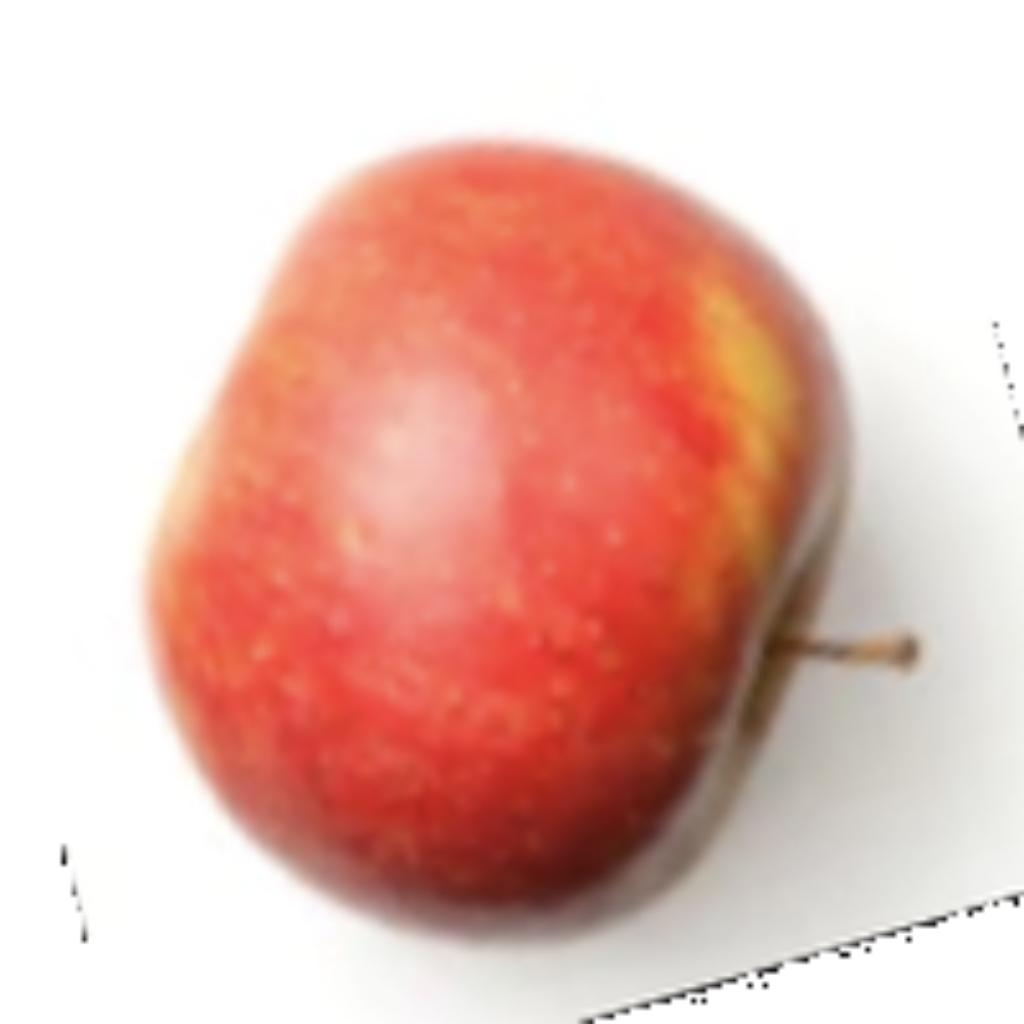apple: (128, 123, 932, 988)
